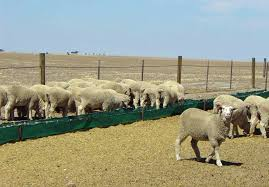koyun: (175, 106, 237, 167)
